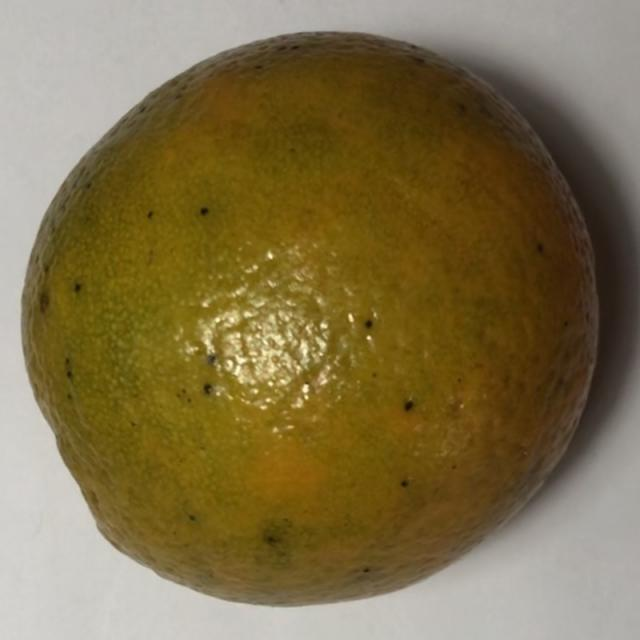blackspot: (10, 18, 614, 621)
